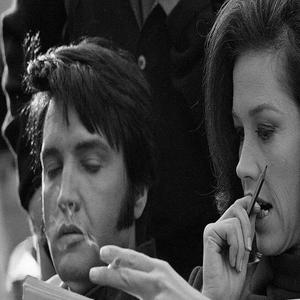cigarette: (99, 252, 127, 278)
